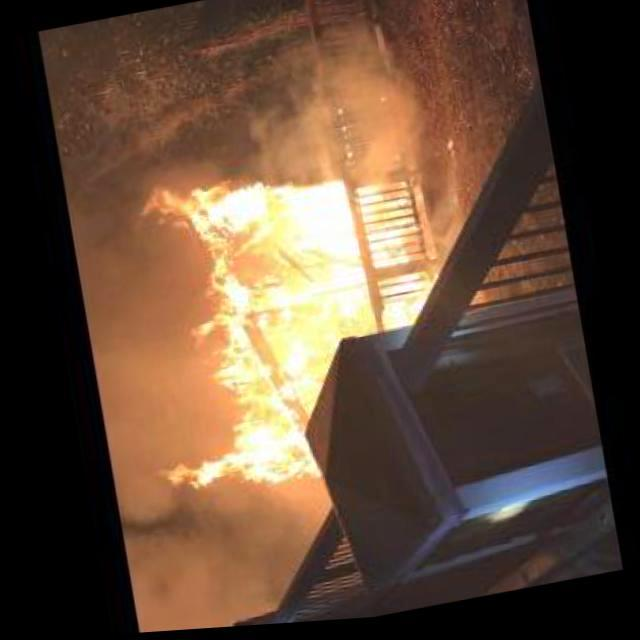fire: (108, 130, 444, 510)
